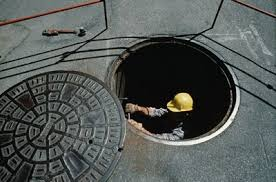Manhole-Open: (108, 26, 252, 153)
human: (123, 88, 208, 146)
